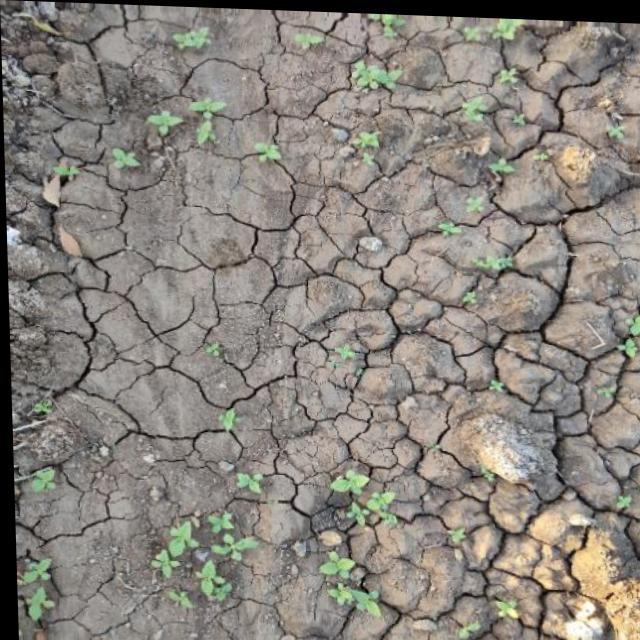crop: (144, 508, 251, 608), (328, 51, 411, 156), (203, 401, 279, 502), (323, 459, 404, 534), (442, 148, 506, 221), (191, 84, 224, 158), (470, 583, 528, 621), (101, 127, 144, 175), (156, 18, 221, 49), (452, 88, 498, 123), (255, 128, 287, 168)
